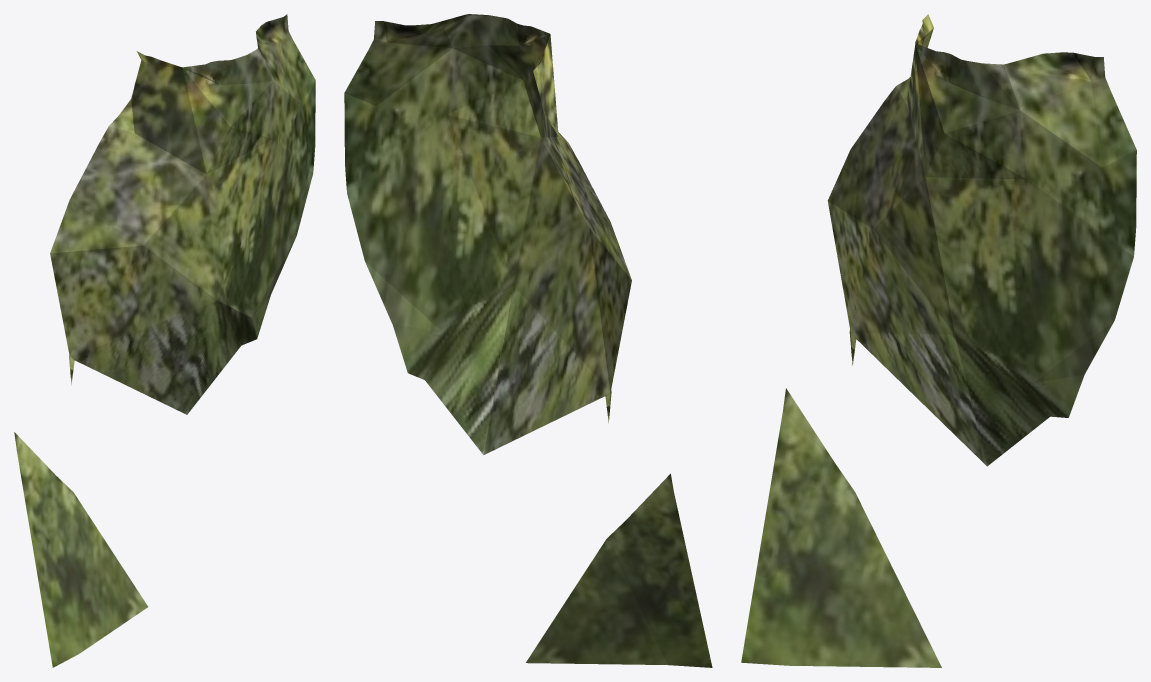
3 renders of one model, left to right at view 1: azimuth 30°, elevation 25°; view 2: azimuth 150°, elevation 25°; view 3: azimuth 330°, elevation 25°, orthographic. The views are drawn at different scales.
Bounding box in the file's own units: 1.66 × 2.95 × 0.3821.
Materials: 1 (1 with a texture image).
